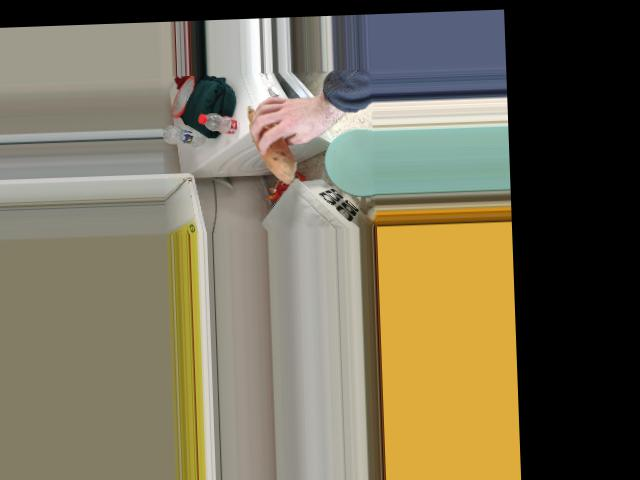sweet_potato: (246, 100, 296, 182)
